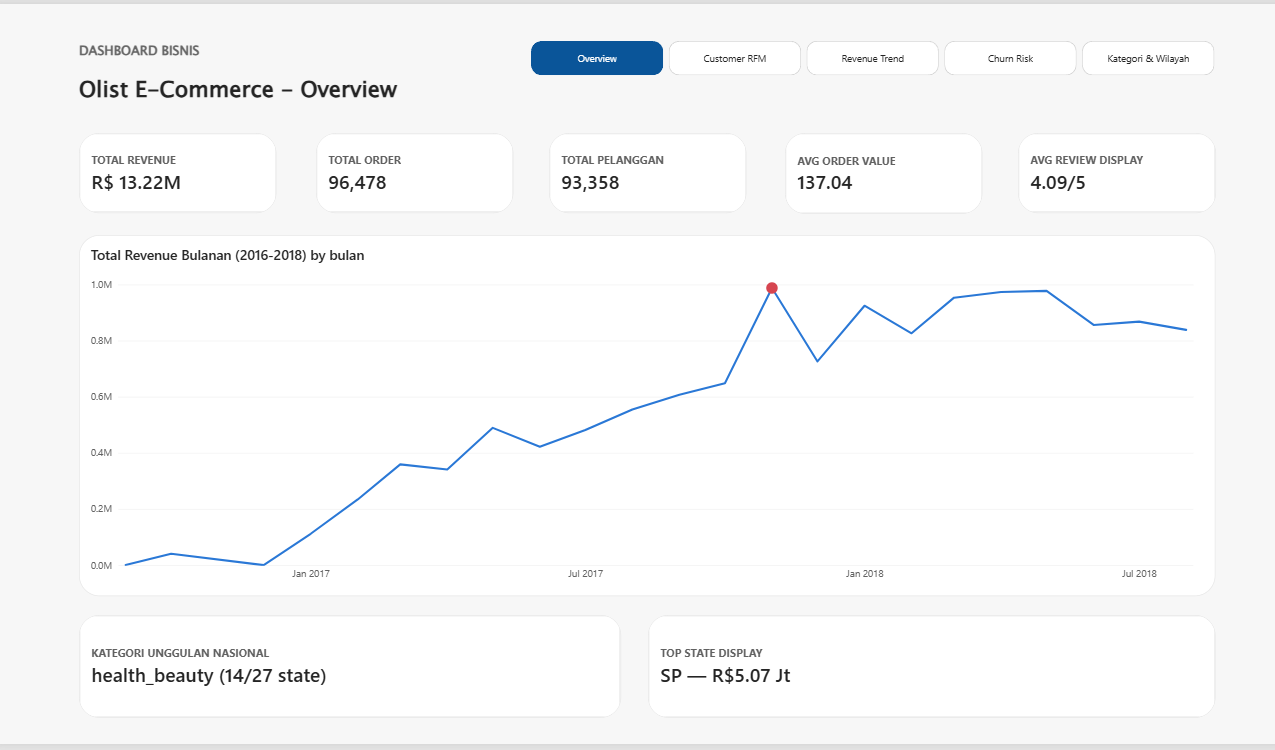

What the dashboard file says about the page in this screenshot:
{"tool":"powerbi","page":{"name":"Overview","canvas":[1920,1080],"ordinal":0},"visuals":[{"type":"cardVisual","fields":{"Data":["Sum(Overview_KPI.total_revenue)"]},"box":[130,188.3,288.3,116.7],"z":0},{"type":"cardVisual","fields":{"Data":["Sum(Overview_KPI.total_order)"]},"box":[475,188.3,288.3,116.7],"z":1000},{"type":"cardVisual","fields":{"Data":["Sum(Overview_KPI.total_pelanggan)"]},"box":[815,188.3,288.3,116.7],"z":2000},{"type":"cardVisual","fields":{"Data":["Sum(Overview_KPI.avg_order_value)"]},"box":[1160,188.3,288.3,118.3],"z":3000},{"type":"lineChart","fields":{"Category":["MonthlyRevenue.bulan"],"Y":["Sum(MonthlyRevenue.revenue)"]},"box":[130,336.7,1658.3,526.7],"z":4000},{"type":"textbox","box":[130,53.3,490,106.7],"z":5000},{"type":"cardVisual","fields":{"Data":["CategoryWinCount.Top Category Display"]},"box":[129.8,891.4,790.8,150.3],"z":6000},{"type":"cardVisual","fields":{"Data":["Overview_KPI.Avg Review Display"]},"box":[1499.8,188.2,288.9,116.7],"z":7000},{"type":"cardVisual","fields":{"Data":["RevenuePerState.Top State Display"]},"box":[960,891.7,828.3,150],"z":8000},{"type":"pageNavigator","box":[789.3,54,1000,50],"z":9000}]}

Visuals, with their boxes on the page's 1920x1080 design canvas (x1, y1, x2, y2). These are canvas units, not pixel positions in the 1275x750 screenshot, which may show the page scaled, cropped or inside an application window:
cardVisual - Sum(Overview_KPI.total_revenue): bbox=[130, 188, 418, 305]
cardVisual - Sum(Overview_KPI.total_order): bbox=[475, 188, 763, 305]
cardVisual - Sum(Overview_KPI.total_pelanggan): bbox=[815, 188, 1103, 305]
cardVisual - Sum(Overview_KPI.avg_order_value): bbox=[1160, 188, 1448, 307]
lineChart - MonthlyRevenue.bulan x Sum(MonthlyRevenue.revenue): bbox=[130, 337, 1788, 863]
textbox: bbox=[130, 53, 620, 160]
cardVisual - CategoryWinCount.Top Category Display: bbox=[130, 891, 921, 1042]
cardVisual - Overview_KPI.Avg Review Display: bbox=[1500, 188, 1789, 305]
cardVisual - RevenuePerState.Top State Display: bbox=[960, 892, 1788, 1042]
pageNavigator: bbox=[789, 54, 1789, 104]
